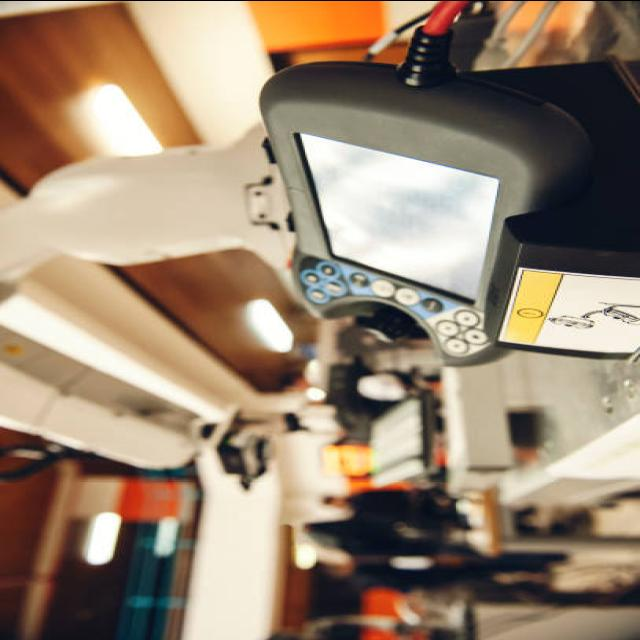Robotic-arm: (0, 130, 311, 478)
